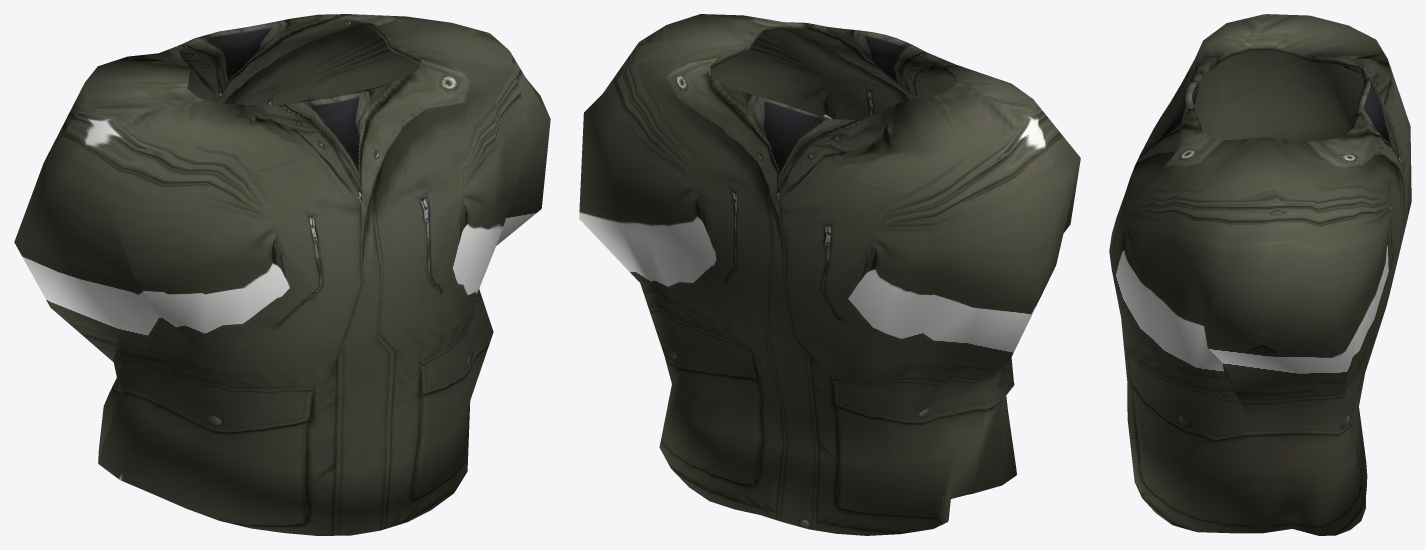
The model's file is a31e632b-bcc7-4ece-90fd-bc032d778cb8.glb.
The picture shows the model from 3 angles, left to right: view 1: azimuth 30°, elevation 25°; view 2: azimuth 150°, elevation 25°; view 3: azimuth 270°, elevation 25°; orthographic projection. The views are drawn at different scales.
Visible parts, largest first — view 1: garment; view 2: garment; view 3: garment.
Part boxes in pixels (x1,y1,x2,y2): garment: (14,14,550,535); garment: (579,14,1080,535); garment: (1109,14,1411,535).
Size of the model in its own units: 0.5483 by 0.4613 by 0.3221.
1 material, 1 textured.
